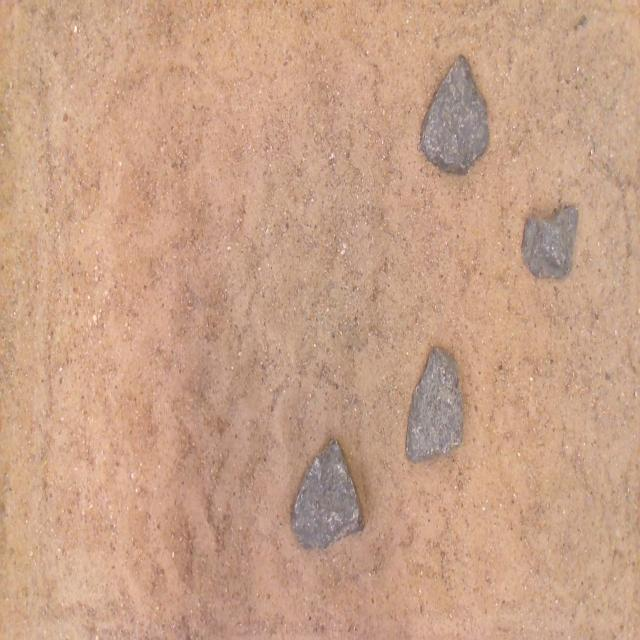rock: (420, 56, 488, 174), (292, 440, 363, 548), (406, 348, 463, 460), (522, 207, 577, 277)
